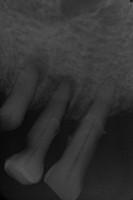Furcation Involvement: (34, 75, 76, 111), (20, 46, 51, 88)
